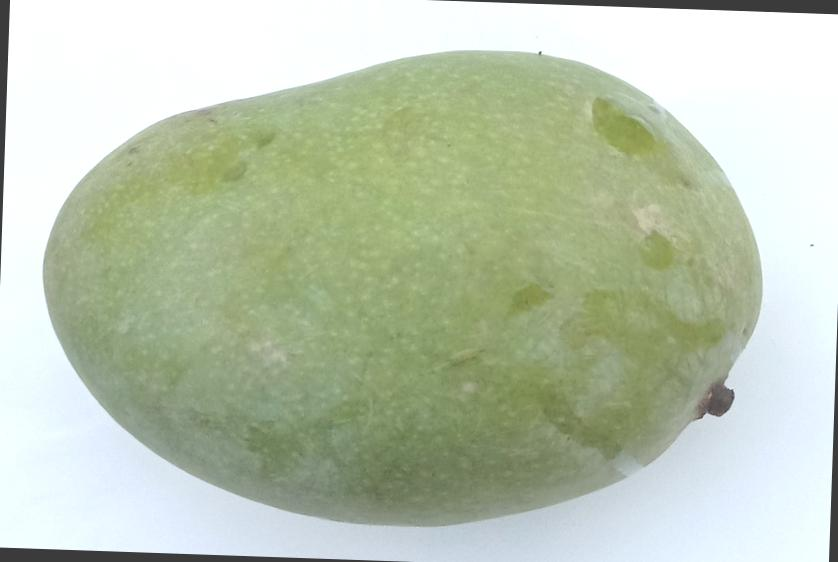Mango Unripe: (19, 15, 826, 557)
